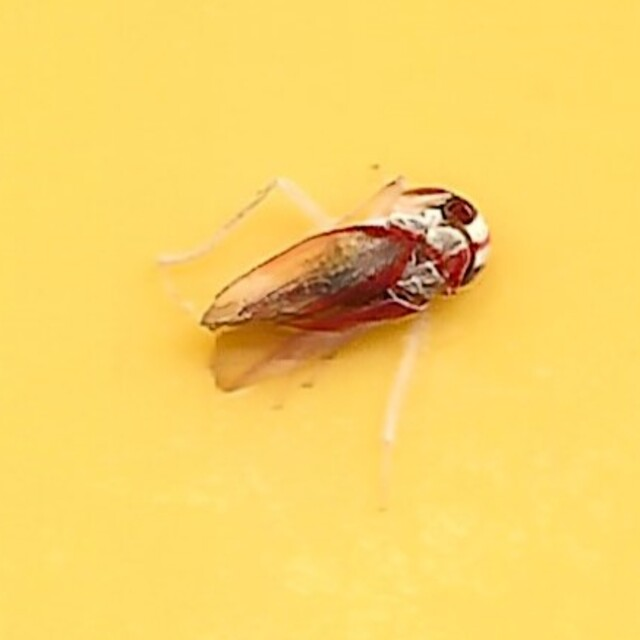Hemiptera: (146, 165, 494, 475)
